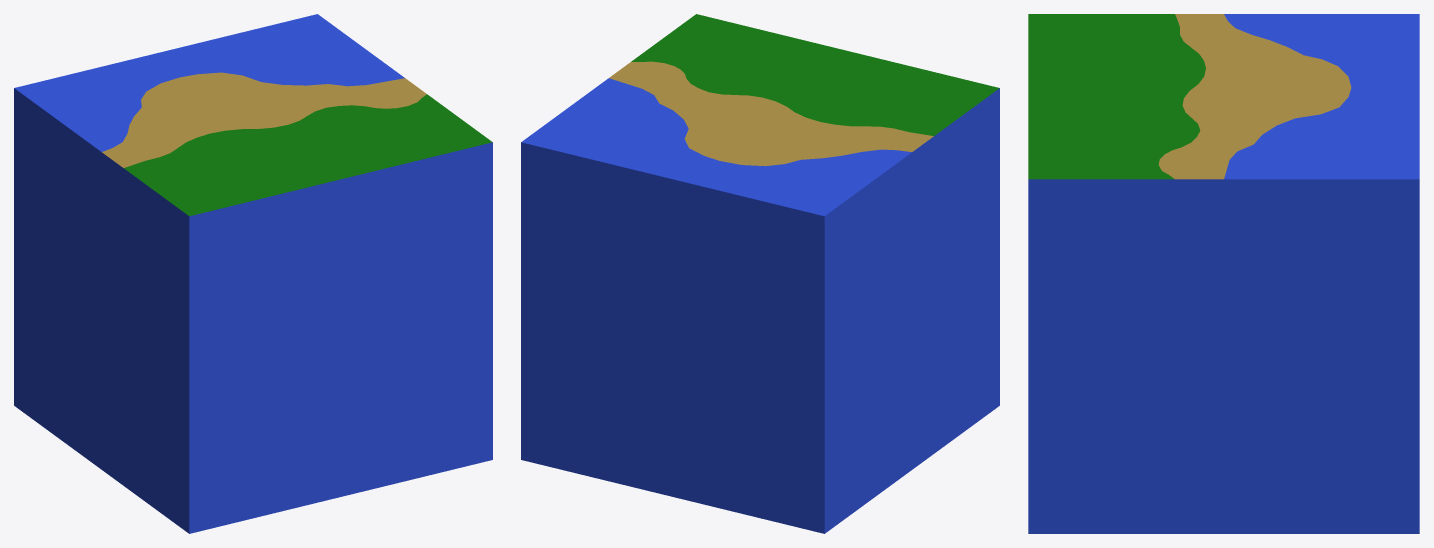
The model's file is CoastSide3.fbx.
The picture shows the model from 3 angles, left to right: view 1: azimuth 30°, elevation 25°; view 2: azimuth 150°, elevation 25°; view 3: azimuth 270°, elevation 25°; orthographic projection. The views are drawn at different scales.
Visible parts, largest first — view 1: Cube.004; view 2: Cube.004; view 3: Cube.004.
Boxes of the visible parts, x1,y1,x2,y2 form: Cube.004: [14, 14, 492, 533]; Cube.004: [521, 14, 999, 533]; Cube.004: [1028, 14, 1419, 533].
Bounding box in the file's own units: 100 × 100 × 100.
